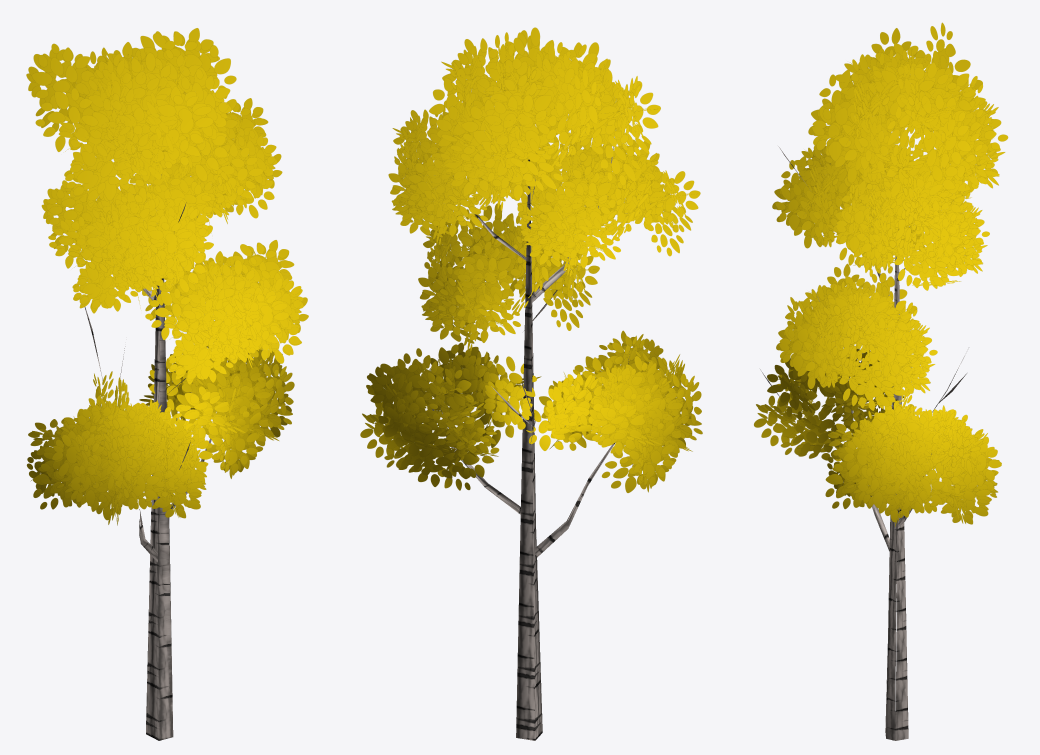
The model's file is Birch_05.glb.
The picture shows the model from 3 angles, left to right: view 1: azimuth 30°, elevation 25°; view 2: azimuth 150°, elevation 25°; view 3: azimuth 270°, elevation 25°; orthographic projection. The views are drawn at different scales.
Parts seen in each view (by area): view 1: BirchTree_2; view 2: BirchTree_2; view 3: BirchTree_2.
Boxes of the visible parts, x1=… form: BirchTree_2: x1=26, y1=28, x2=308, y2=740; BirchTree_2: x1=360, y1=27, x2=702, y2=740; BirchTree_2: x1=754, y1=22, x2=1008, y2=740.
Bounding box in the file's own units: 3.35 × 7.57 × 2.81.
Materials: 2 (2 with a texture image).
